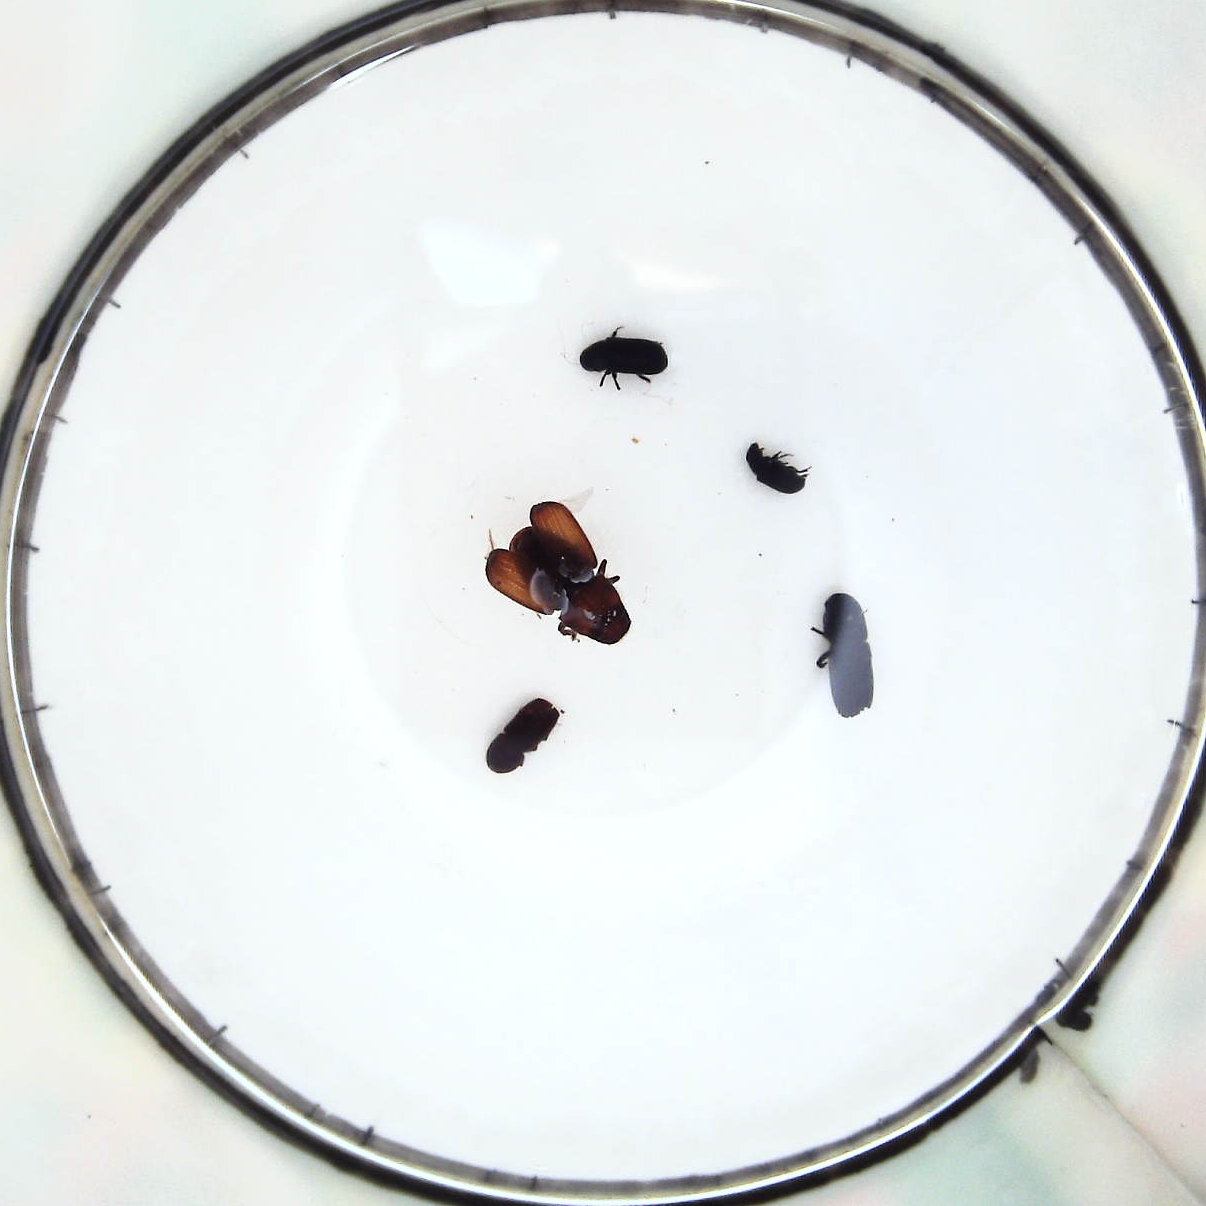Boerner: (811, 590, 880, 719)
Leconte: (484, 497, 631, 649)
Linnaeus: (480, 697, 556, 780)
armandi: (584, 336, 670, 375)
coleoptera: (748, 440, 811, 503)
